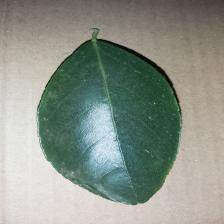healthy: (33, 34, 186, 206)
